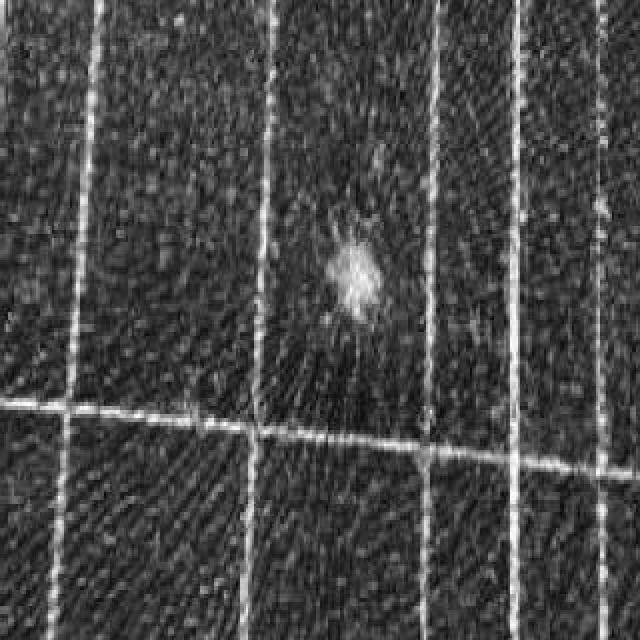Physical-damage: (272, 178, 429, 372)
